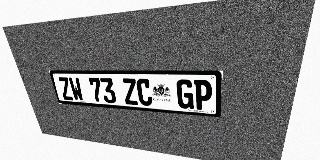3: (100, 78, 117, 103)
7: (87, 78, 104, 103)
C: (136, 78, 153, 106)
G: (176, 79, 194, 109)
P: (194, 80, 212, 110)
W: (68, 77, 84, 101)
Z: (121, 78, 139, 105), (57, 77, 74, 100)
